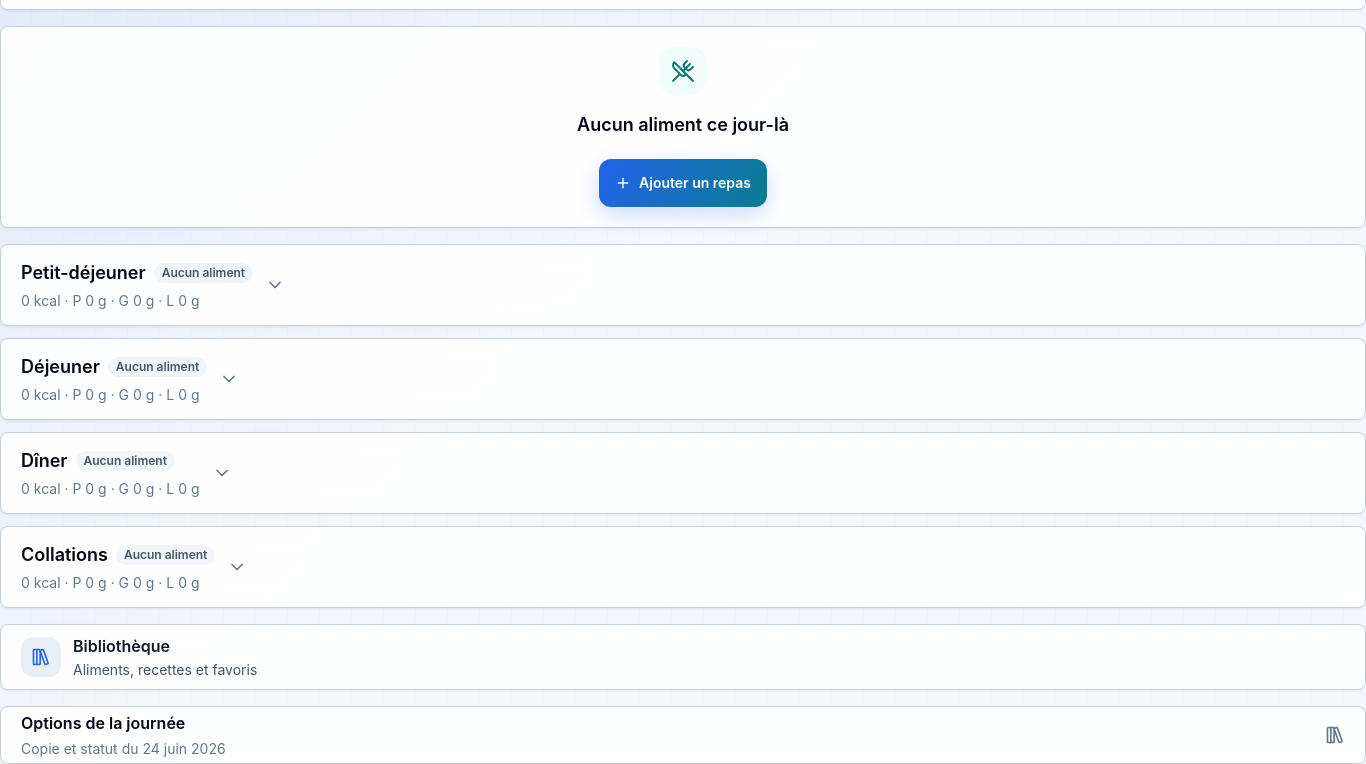
FoodJournalPage — expérience mobile › sépare la bibliothèque des options propres à la journée
(page scrolled)
Click the button "Bibliothèque Aliments, recettes et favoris" at point(41, 657), box [1, 625, 1365, 689]
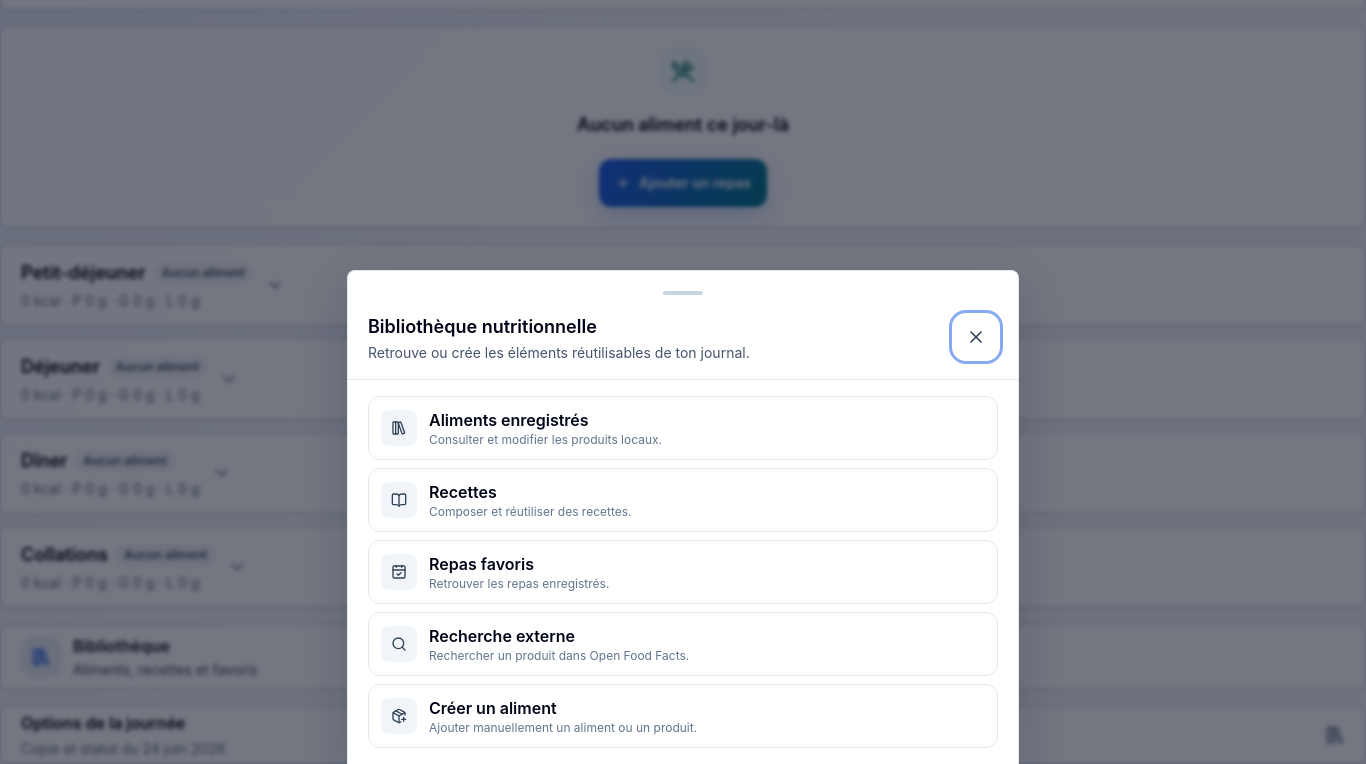
expect the link "Aliments enregistrés" is shown: met, box [368, 396, 998, 460]
expect the link "Recettes Composer et réutiliser des recettes." is shown: met, box [368, 468, 998, 532]
expect the link "Repas favoris Retrouver les repas enregistrés." is shown: met, box [368, 540, 998, 604]
Click the button named "Fermer" at point(976, 337), box [954, 315, 998, 359]
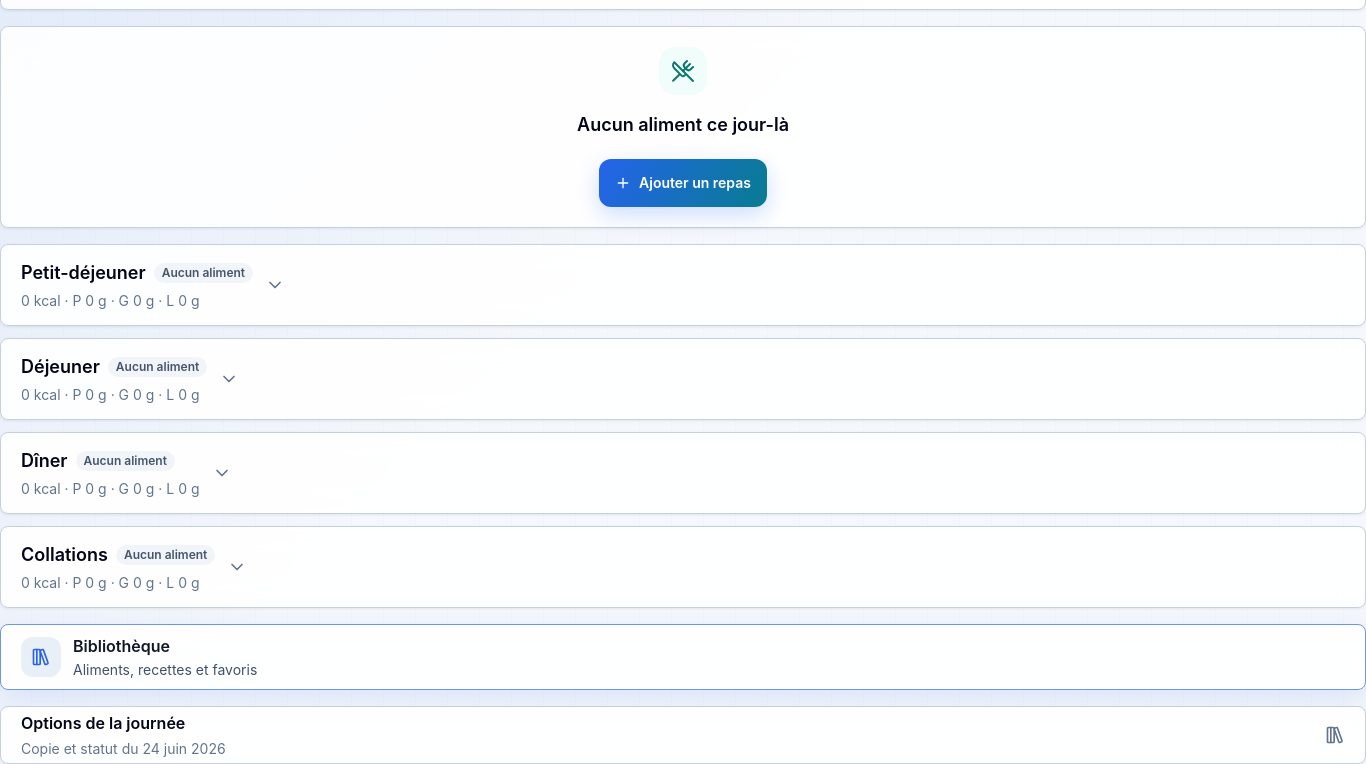
Click the button "Options de la journée" at point(103, 723), box [1, 707, 1365, 763]
(page scrolled)
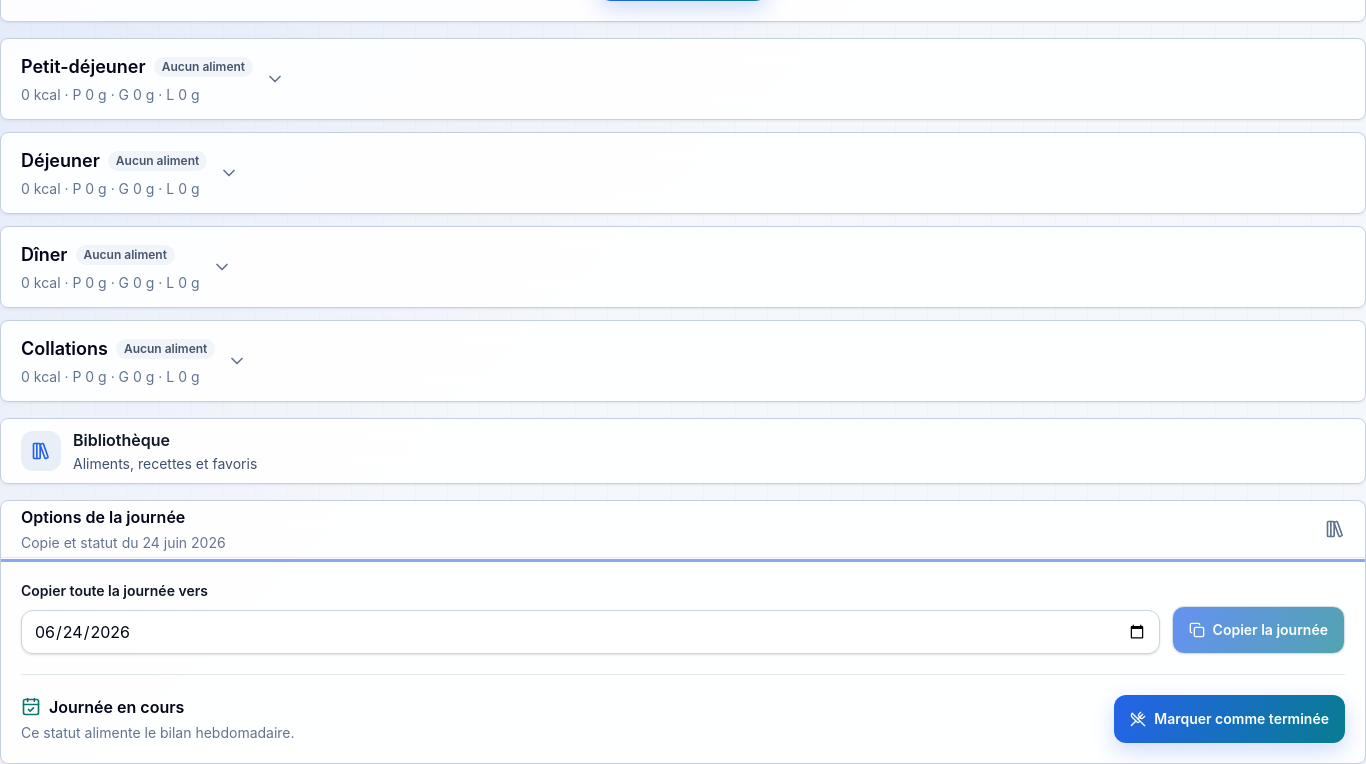
expect the link "Aliments enregistrés" is not shown: met
expect the text "Copier toute la journée vers" is shown: met, box [21, 582, 208, 599]
expect the text "Journée en cours" is shown: met, box [49, 695, 184, 719]
